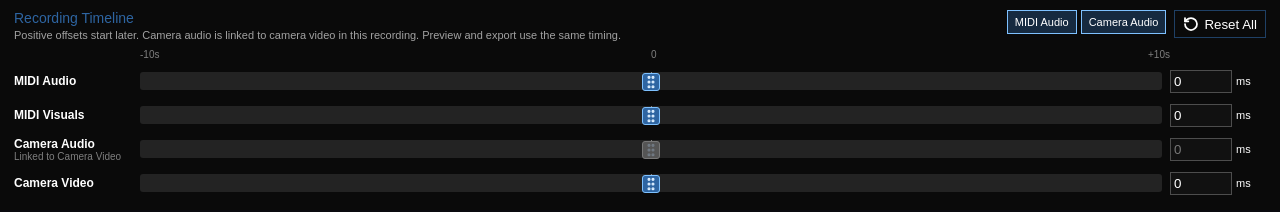
RecordingTimelineEditor › updates, clamps, drags, and resets offsets
Replace the text in the number field named "MIDI Audio offset" with "12345". click: (1201, 81)
box: 1170,70 -> 1232,92
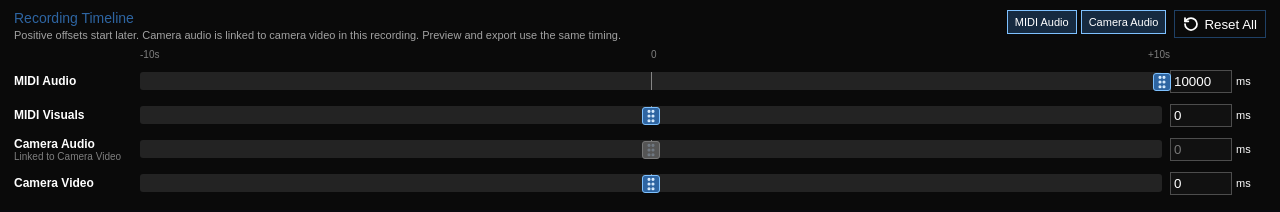
Expected: the number field named "MIDI Audio offset" holds "10000", 1170,70 -> 1232,92
Press the mouse on the button named "Drag MIDI Visuals offset" at (651, 116), box 642,107 -> 660,125
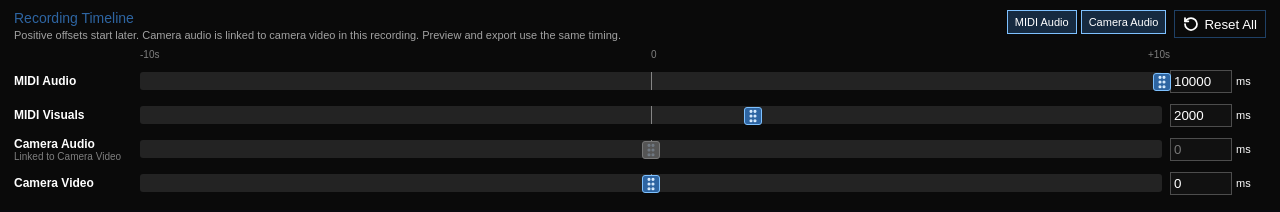
Expected: the number field named "MIDI Visuals offset" holds "2000", 1170,104 -> 1232,126
Replace the text in the number field named "Camera Video offset" with "750". click: (1201, 183)
box: 1170,172 -> 1232,194
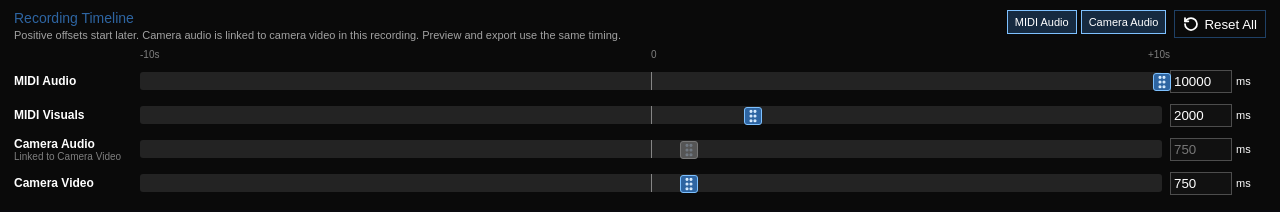
Expected: the number field named "Camera Audio offset" holds "750", 1170,138 -> 1232,160
Click the button "Reset All". click: (1220, 24)
box: 1174,10 -> 1266,38
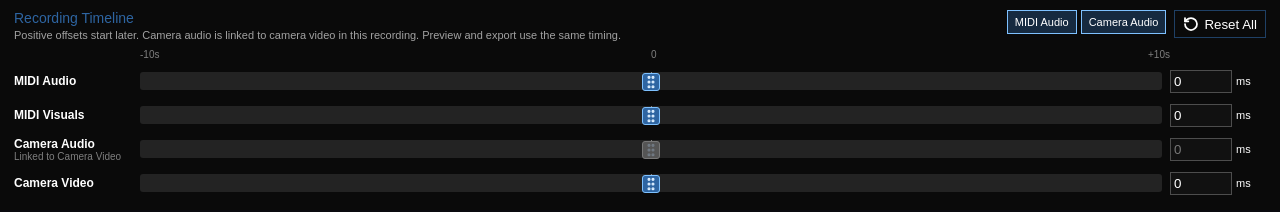
Expected: the number field named "MIDI Audio offset" holds "0", 1170,70 -> 1232,92
Expected: the number field named "MIDI Visuals offset" holds "0", 1170,104 -> 1232,126
Expected: the number field named "Camera Video offset" holds "0", 1170,172 -> 1232,194
